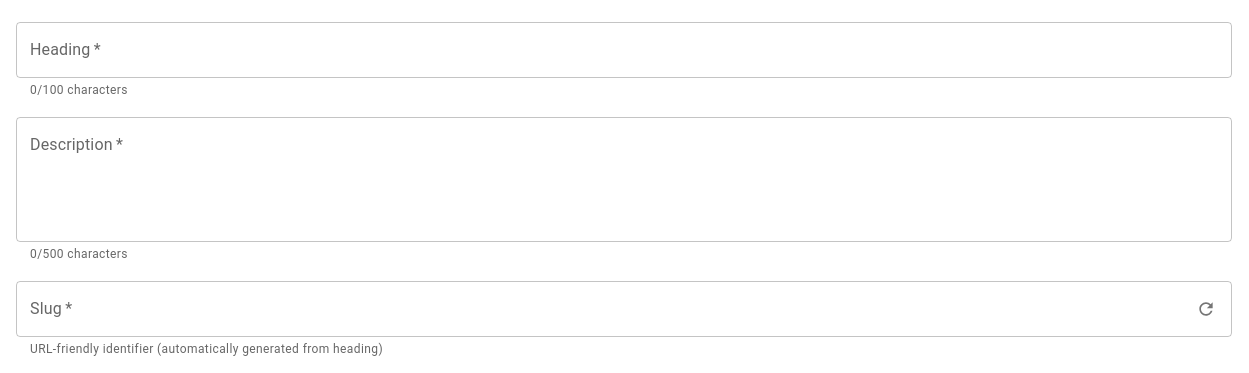
it: User Interactions › should update character count when typing in heading field
// Type in the heading field
In the field with placeholder "Enter article heading": (624, 50) [16, 22, 1232, 78], type "Test Heading"
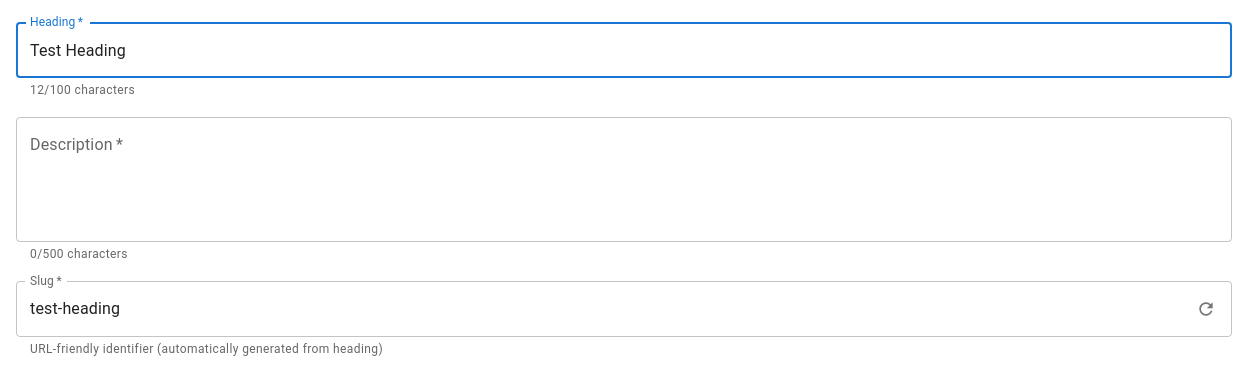
Result: the text "12/100 characters" is shown at [30, 83, 135, 97]
